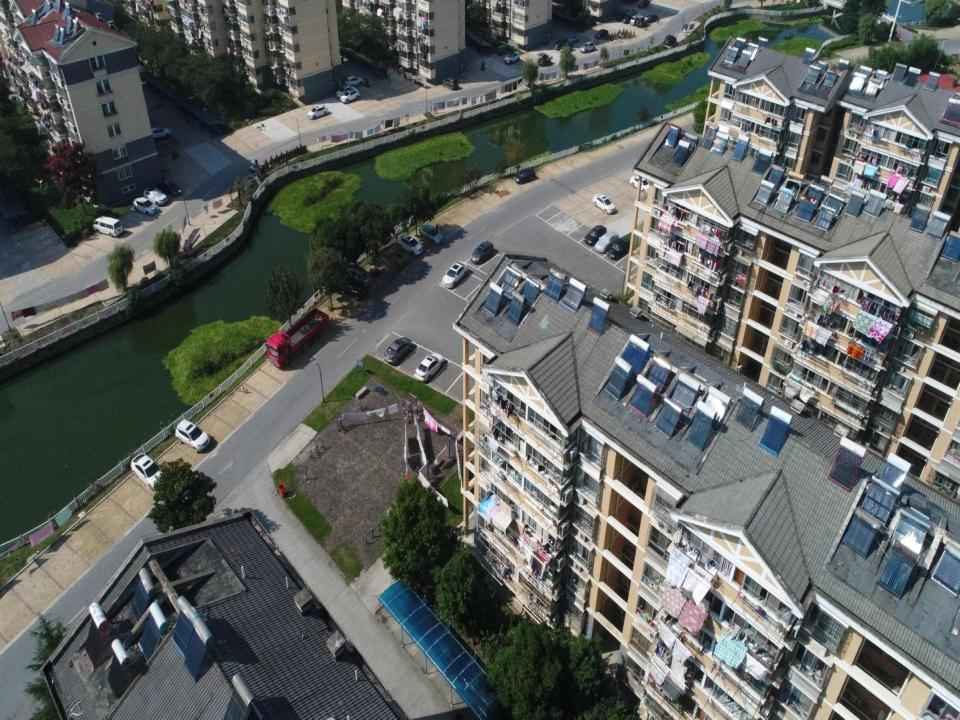car: (130, 452, 167, 490), (175, 419, 210, 453), (442, 261, 468, 289), (339, 278, 367, 300), (470, 241, 494, 265), (606, 238, 632, 260), (594, 231, 620, 253), (419, 224, 444, 246), (397, 235, 423, 255), (592, 193, 616, 214), (132, 197, 158, 216), (143, 186, 167, 206), (157, 179, 181, 198), (584, 225, 606, 245), (630, 174, 651, 194), (514, 167, 535, 185), (149, 126, 171, 142), (340, 88, 360, 104), (307, 105, 328, 119), (335, 85, 355, 99), (345, 75, 363, 87), (552, 37, 568, 50), (504, 51, 520, 64), (580, 41, 595, 53), (623, 11, 636, 24), (616, 8, 630, 20), (560, 42, 573, 54), (595, 28, 609, 39), (566, 34, 580, 45), (646, 14, 657, 24), (638, 0, 650, 8)
truck: (266, 308, 329, 369)
van: (92, 215, 124, 238), (346, 264, 372, 287), (442, 76, 458, 90), (630, 13, 642, 26)
